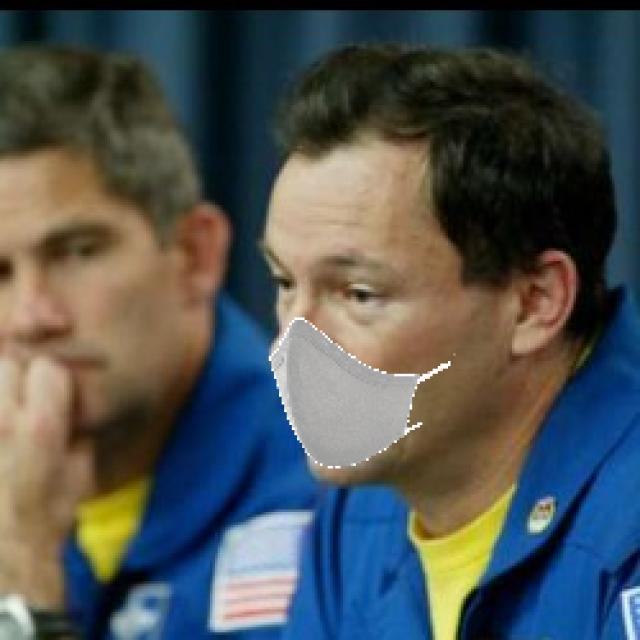mask: (270, 314, 440, 469)
